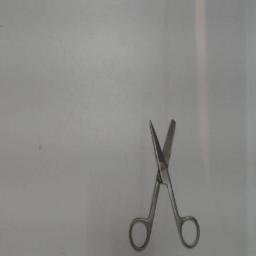Dressing Scissors: (124, 111, 206, 253)
